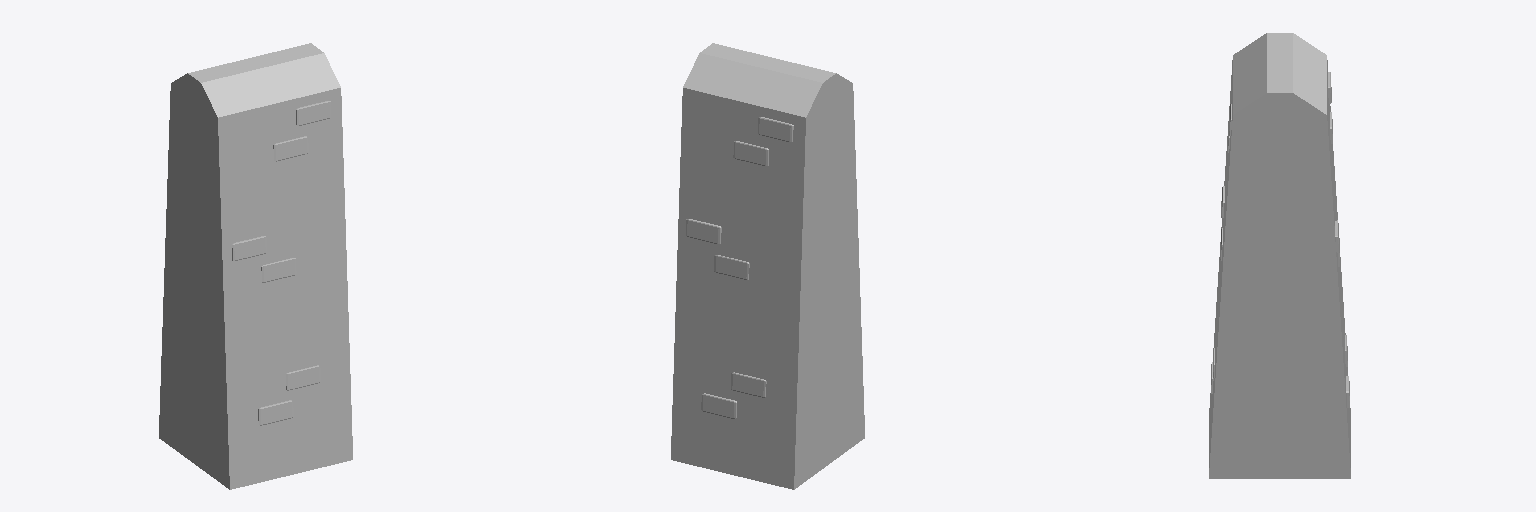
The model's file is aStonePillar.obj.
The picture shows the model from 3 angles: view 1: azimuth 30°, elevation 25°; view 2: azimuth 150°, elevation 25°; view 3: azimuth 270°, elevation 25°; orthographic projection.
Parts seen in each view (by area): view 1: Cube.001_Cube.008; view 2: Cube.001_Cube.008; view 3: Cube.001_Cube.008.
Part boxes in pixels (x1,y1,x2,y2): Cube.001_Cube.008: (159, 43, 352, 489); Cube.001_Cube.008: (671, 43, 864, 489); Cube.001_Cube.008: (1209, 33, 1350, 478).
Size of the model in its own units: 0.3056 by 0.9137 by 0.3056.